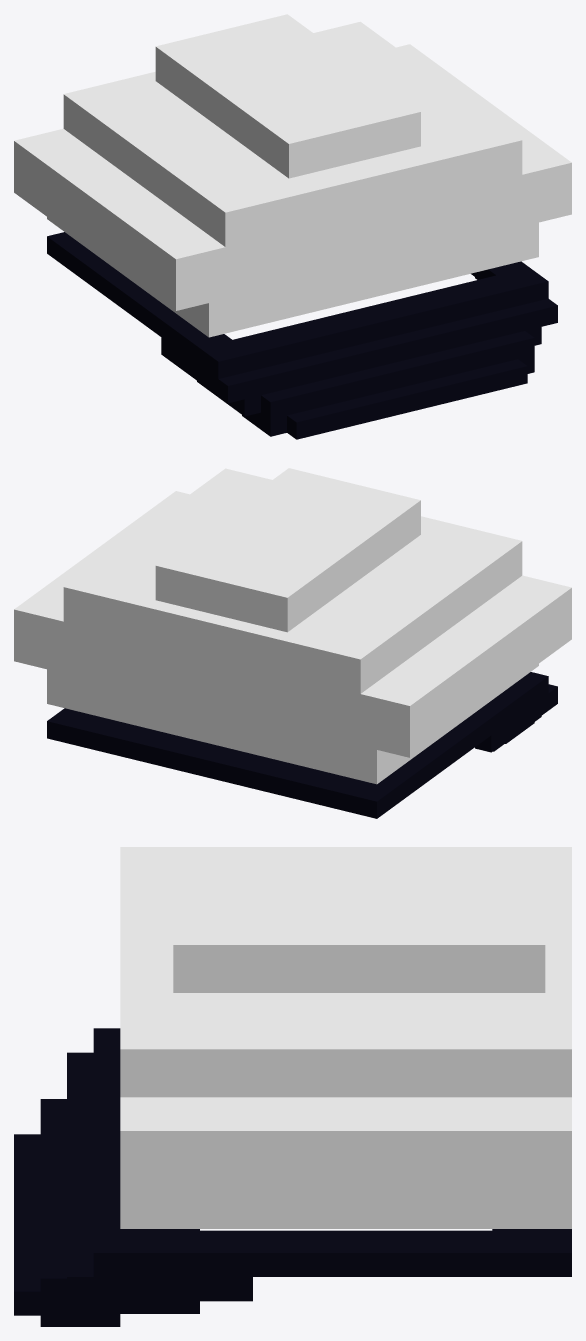
3 renders of one model, top to bottom at view 1: azimuth 30°, elevation 25°; view 2: azimuth 150°, elevation 25°; view 3: azimuth 270°, elevation 25°, orthographic. The views are drawn at different scales.
Parts seen in each view (by area): view 1: 10; view 2: 10; view 3: 10.
Part boxes in pixels (<box>): 10: <box>14,14,571,439</box>; 10: <box>14,468,571,818</box>; 10: <box>14,847,571,1326</box>.
Size of the model in its own units: 240 by 140 by 210.
1 material, 1 textured.
